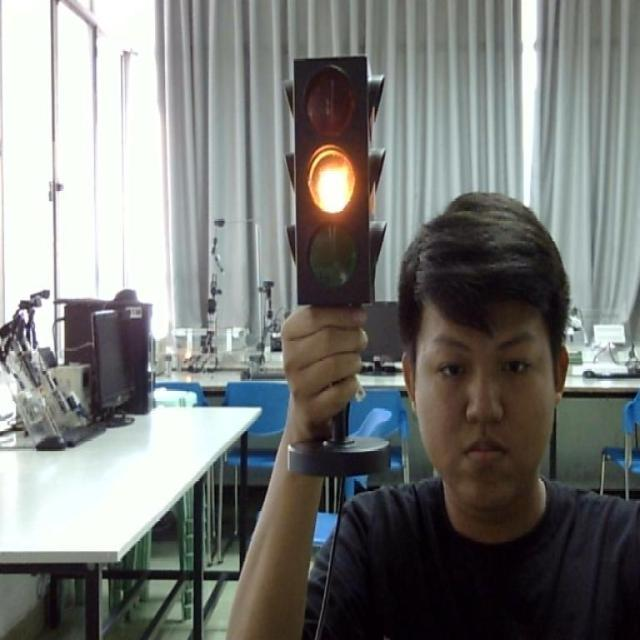yellow_light: (283, 54, 383, 303)
